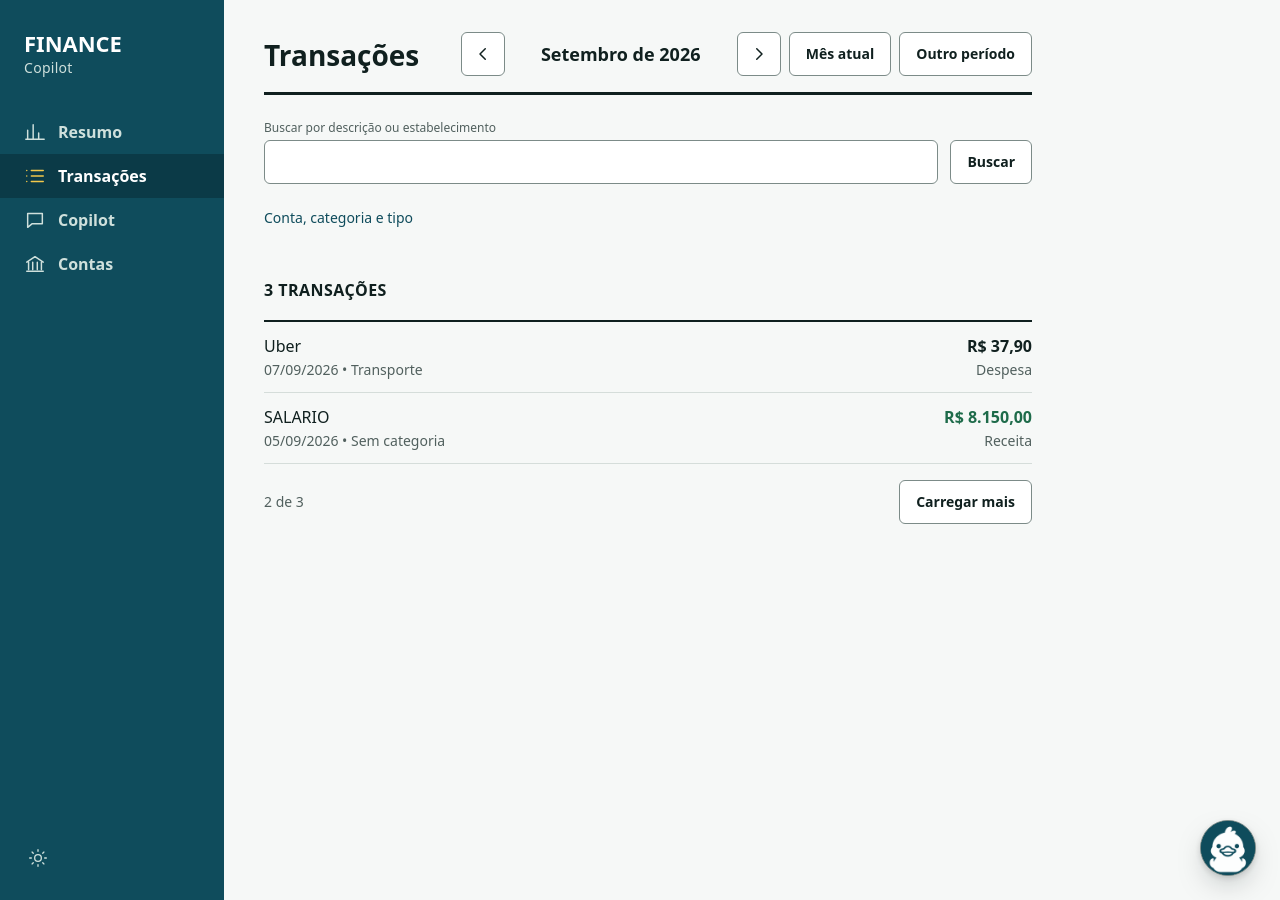
Test case: TransactionsPage › loads the next page and retries it after a failure
This screenshot has width=1280, height=900.
Click the button "Carregar mais".
click(966, 502)  # box [899,480,1032,524]
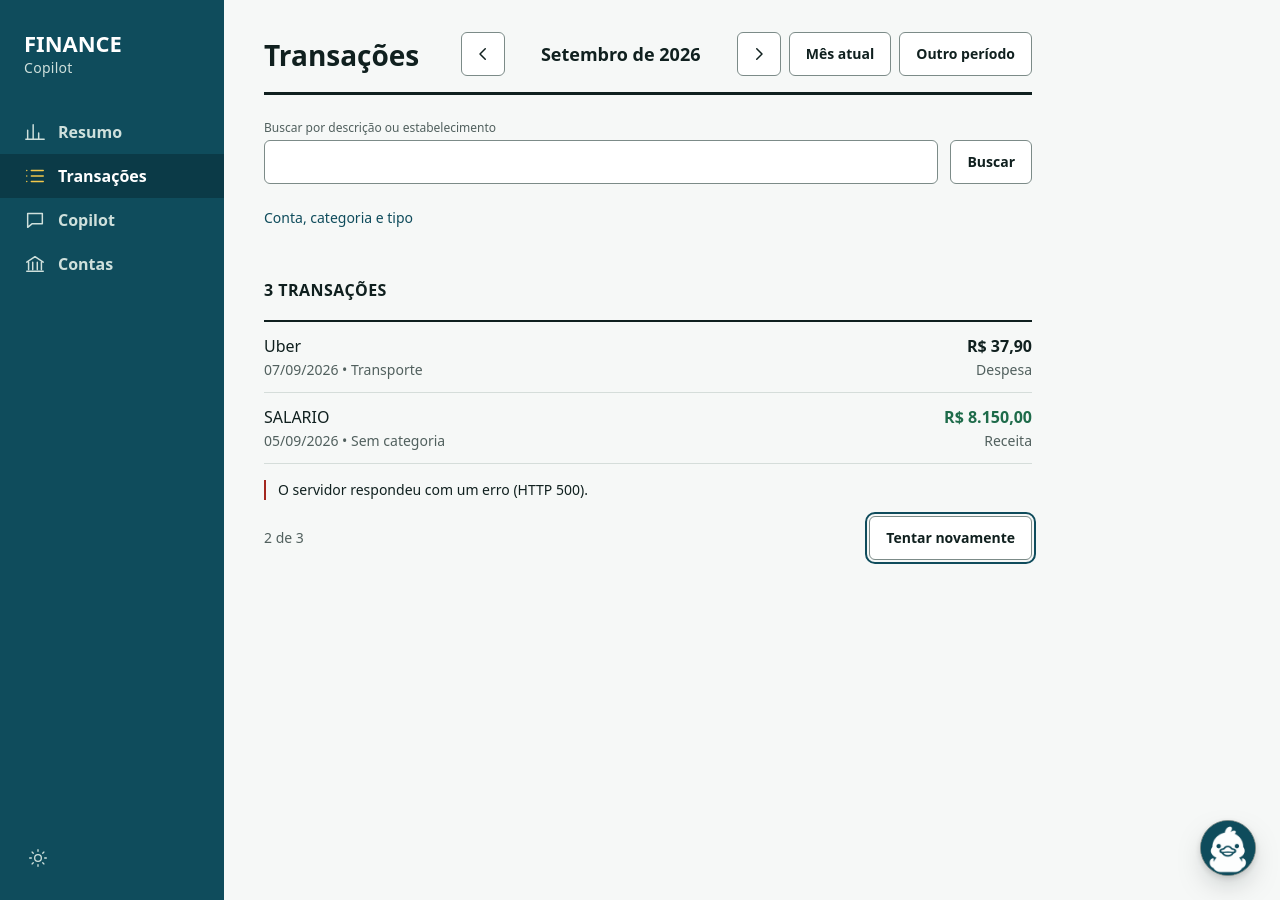
Check: the text "Uber" is shown, box [264,335,301,357]
Check: the message shows "HTTP 500", box [278,480,588,499]
Click the button "Tentar novamente".
click(951, 538)  # box [869,516,1032,560]
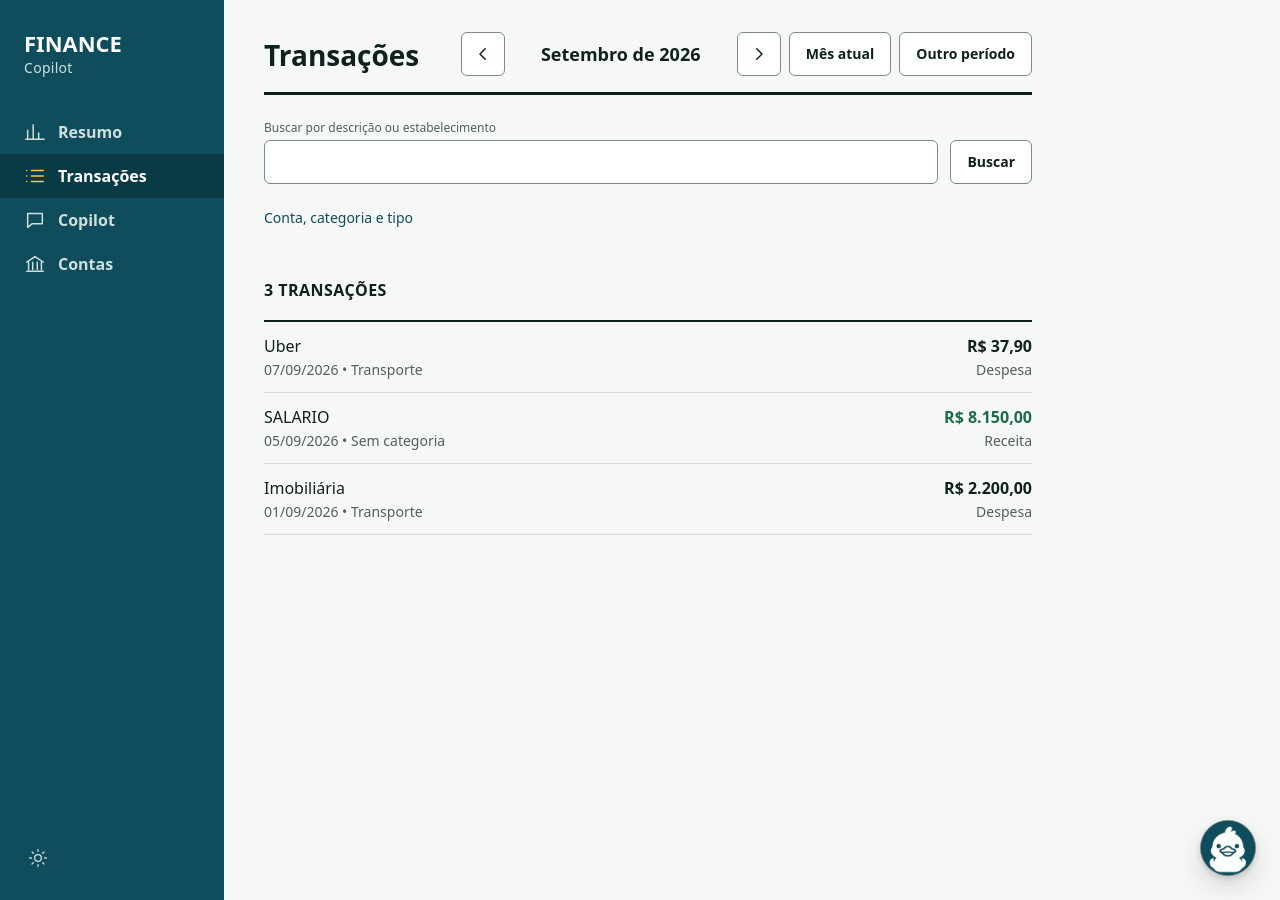
Check: the button "Carregar mais" is not shown
Check: the text "Imobiliária" is shown, box [264,477,345,499]
Check: the text "SALARIO" is shown once, box [264,406,330,428]
